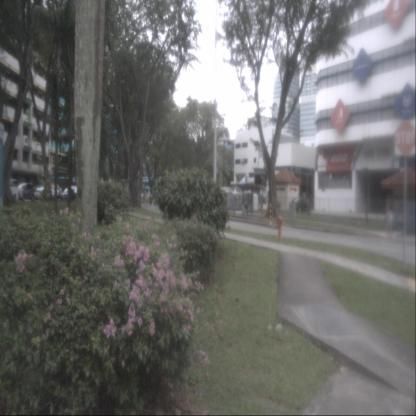human-pedestrian-adult: (242, 202, 245, 218), (233, 201, 236, 216)
vehicle-car: (0, 178, 19, 203), (16, 182, 34, 203), (289, 197, 311, 213), (60, 188, 75, 200)
